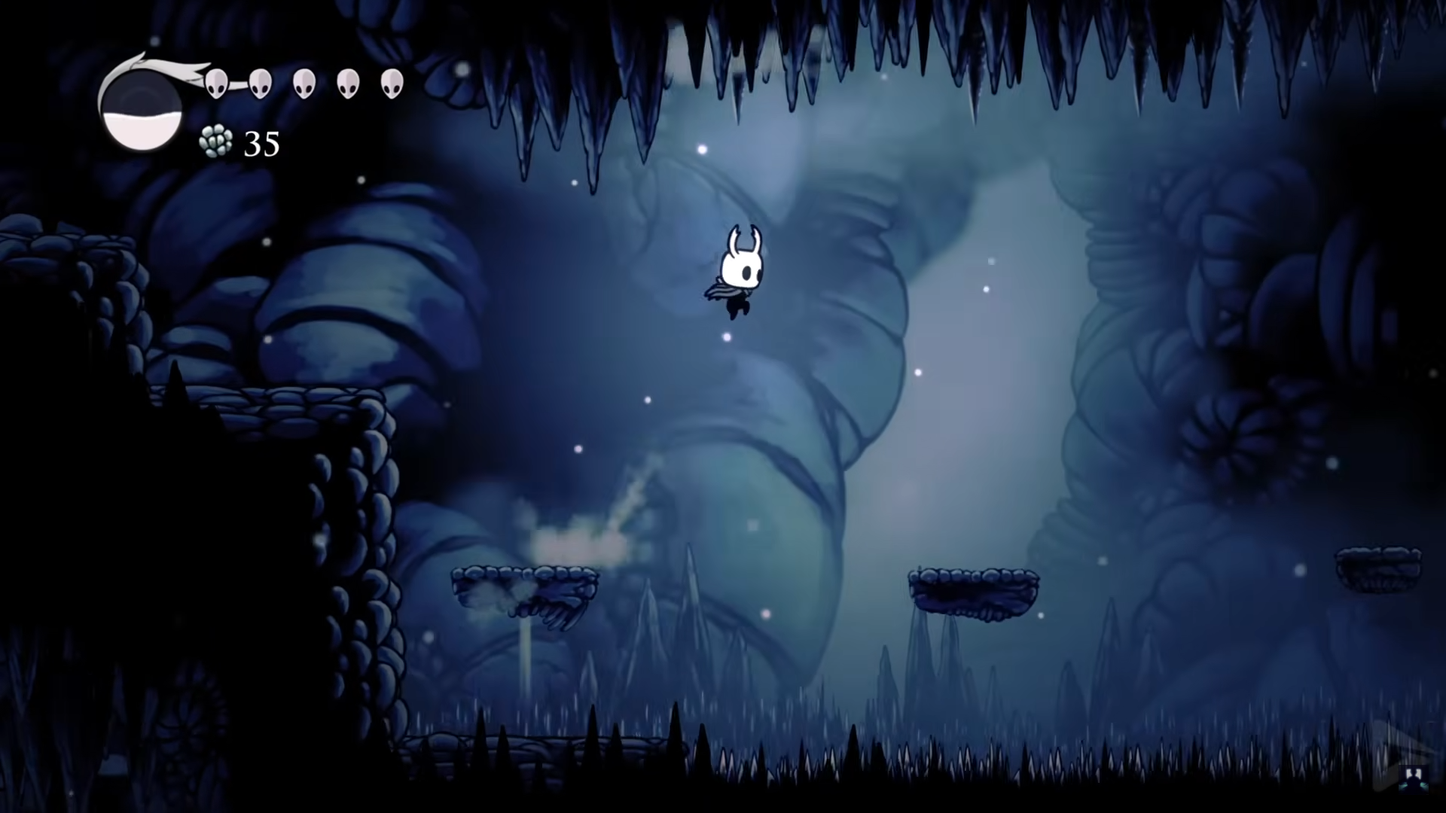HK: (708, 220, 770, 323)
